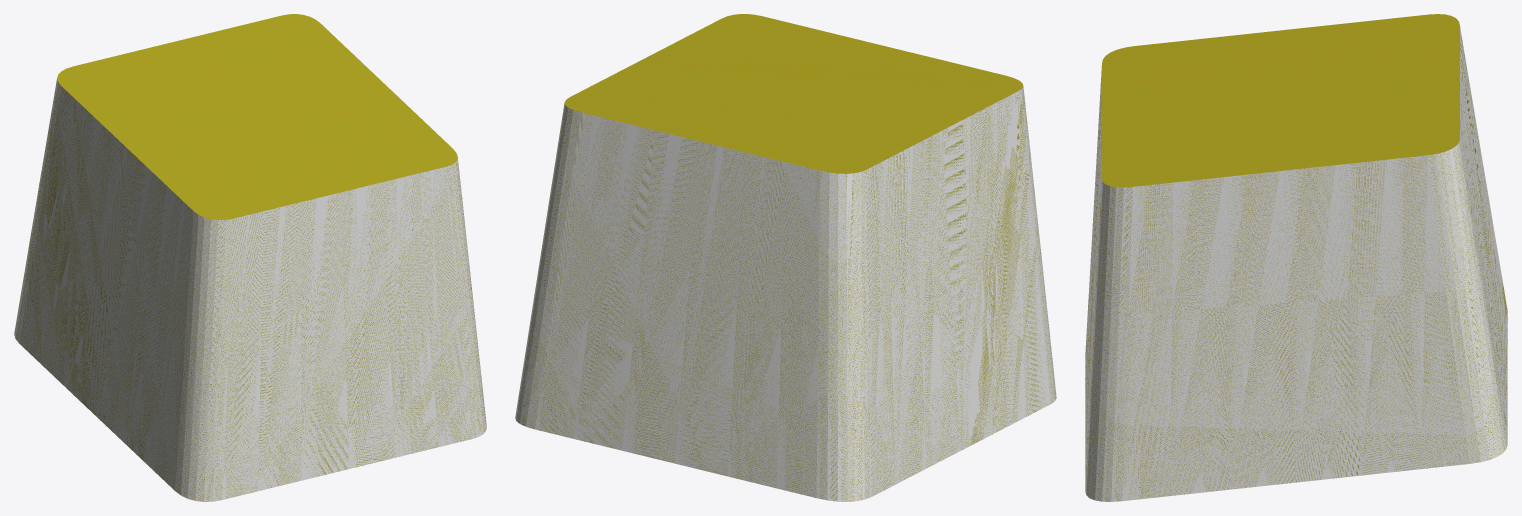
The model's file is original-14.obj.
3 views of the same model, side by side, from view 1: azimuth 30°, elevation 25°; view 2: azimuth 150°, elevation 25°; view 3: azimuth 270°, elevation 25° (orthographic). The views are drawn at different scales.
Visible parts, largest first — view 1: mesh14/mesh14-geometry#mesh14-geometry; view 2: mesh14/mesh14-geometry#mesh14-geometry; view 3: mesh14/mesh14-geometry#mesh14-geometry.
Part boxes in pixels (<box>): mesh14/mesh14-geometry#mesh14-geometry: <box>14,14,486,501</box>; mesh14/mesh14-geometry#mesh14-geometry: <box>515,14,1056,501</box>; mesh14/mesh14-geometry#mesh14-geometry: <box>1085,14,1507,501</box>.
Bounding box in the file's own units: 0.0633 × 0.0606 × 0.0681.
